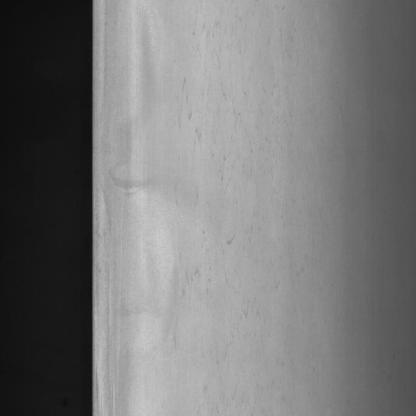silk_spot: (177, 30, 279, 416)
